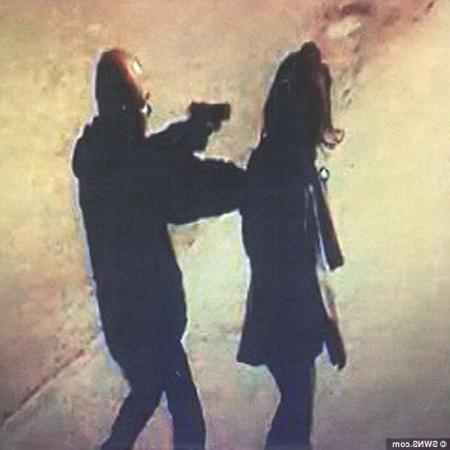Pistol: (185, 95, 237, 151)
